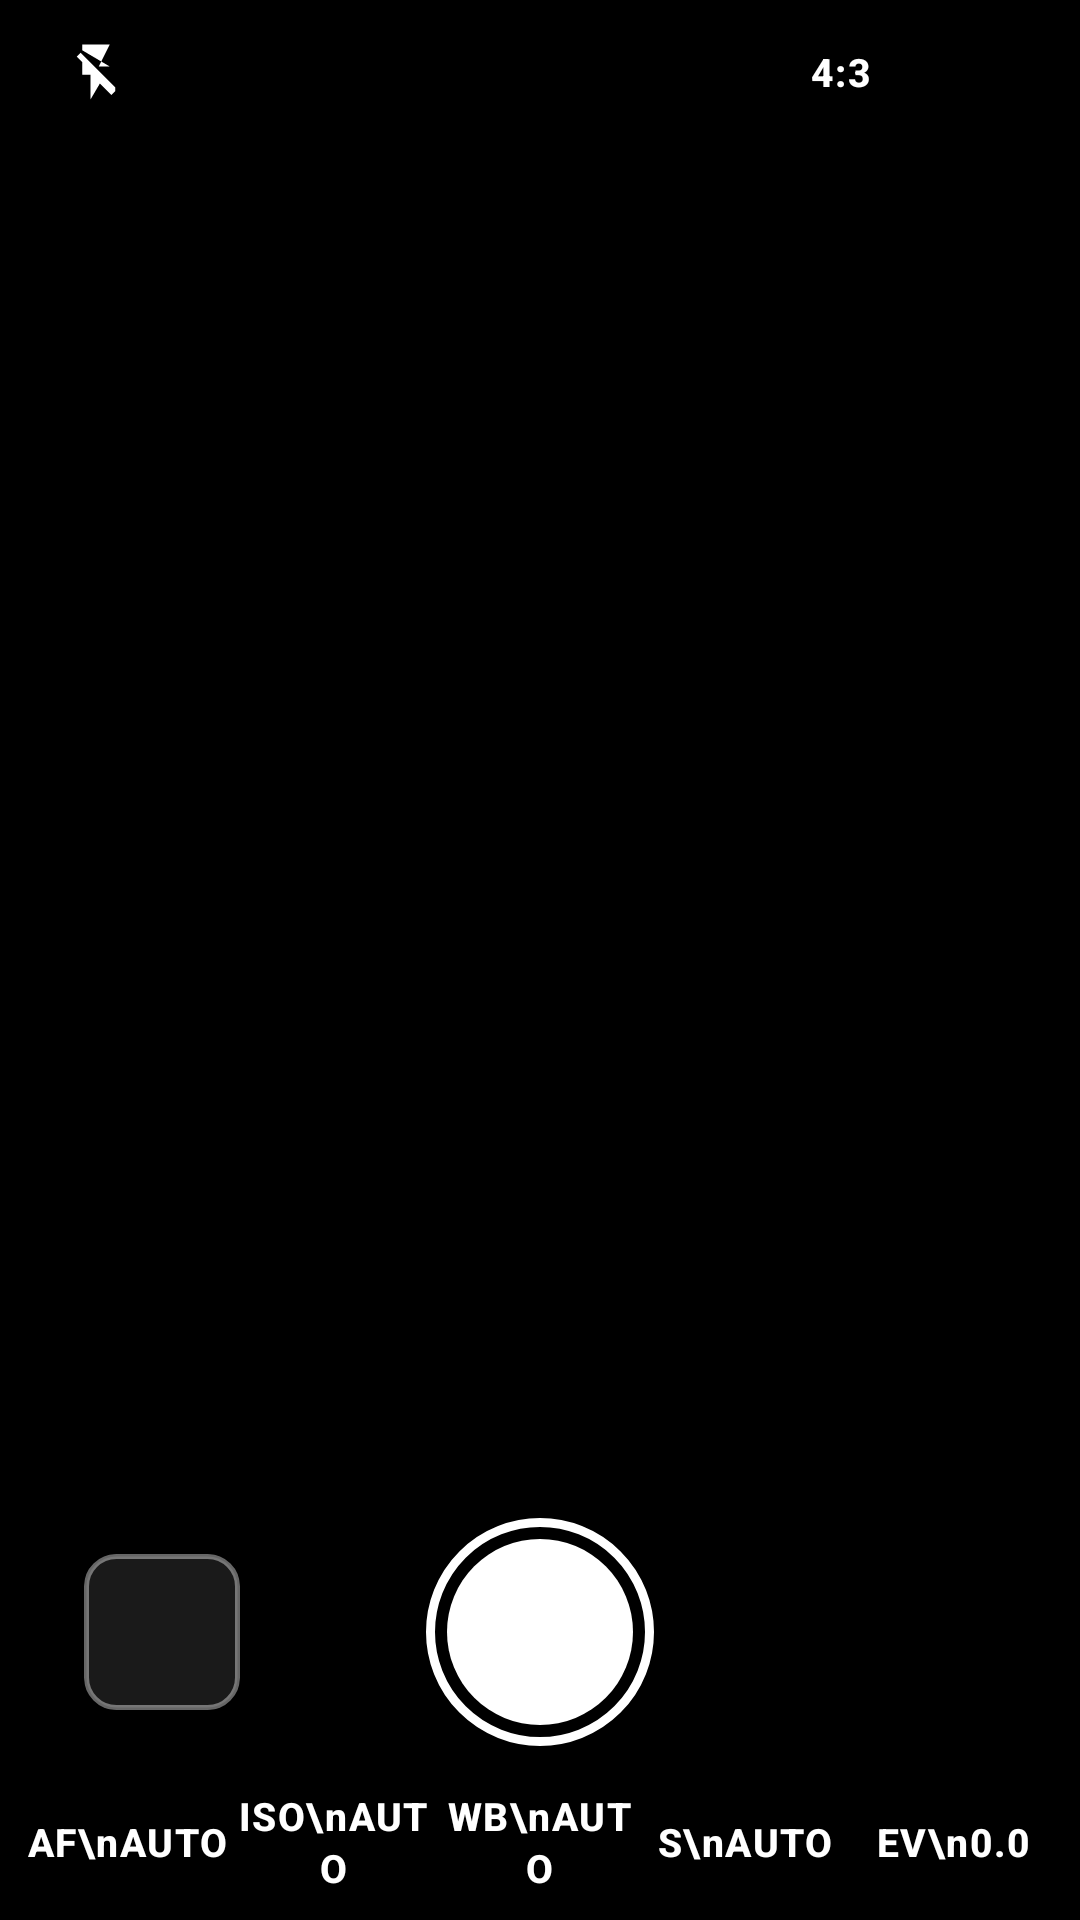

Named icons in this screenshot (1080px x 1920px) and their bounding boxes, (x1,y1,x2,y2):
Flash: (77,44,116,99)
